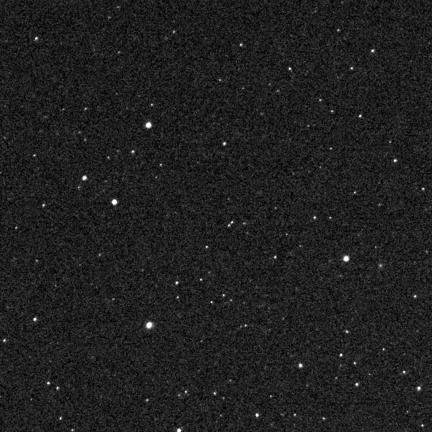blob: (146, 322, 153, 329), (343, 256, 350, 263), (146, 122, 151, 128), (112, 200, 117, 205), (223, 142, 227, 147), (82, 176, 87, 180), (33, 318, 37, 321), (299, 364, 302, 368), (256, 414, 259, 417)
